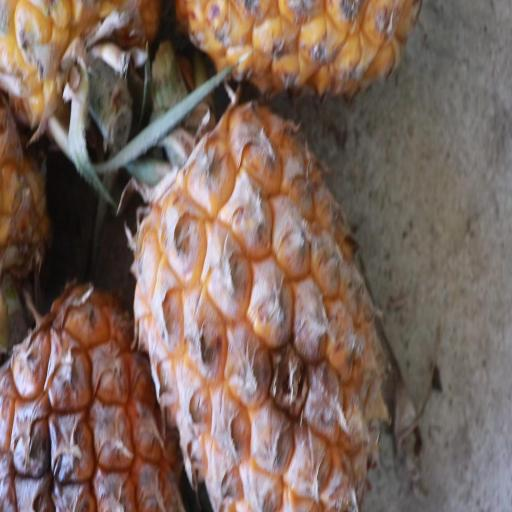Pineapple - v8 v1: (132, 91, 392, 512), (0, 266, 187, 511)
